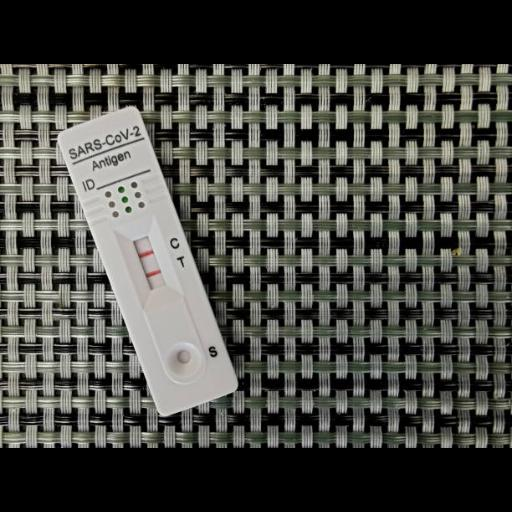Pos: (56, 105, 240, 417)
